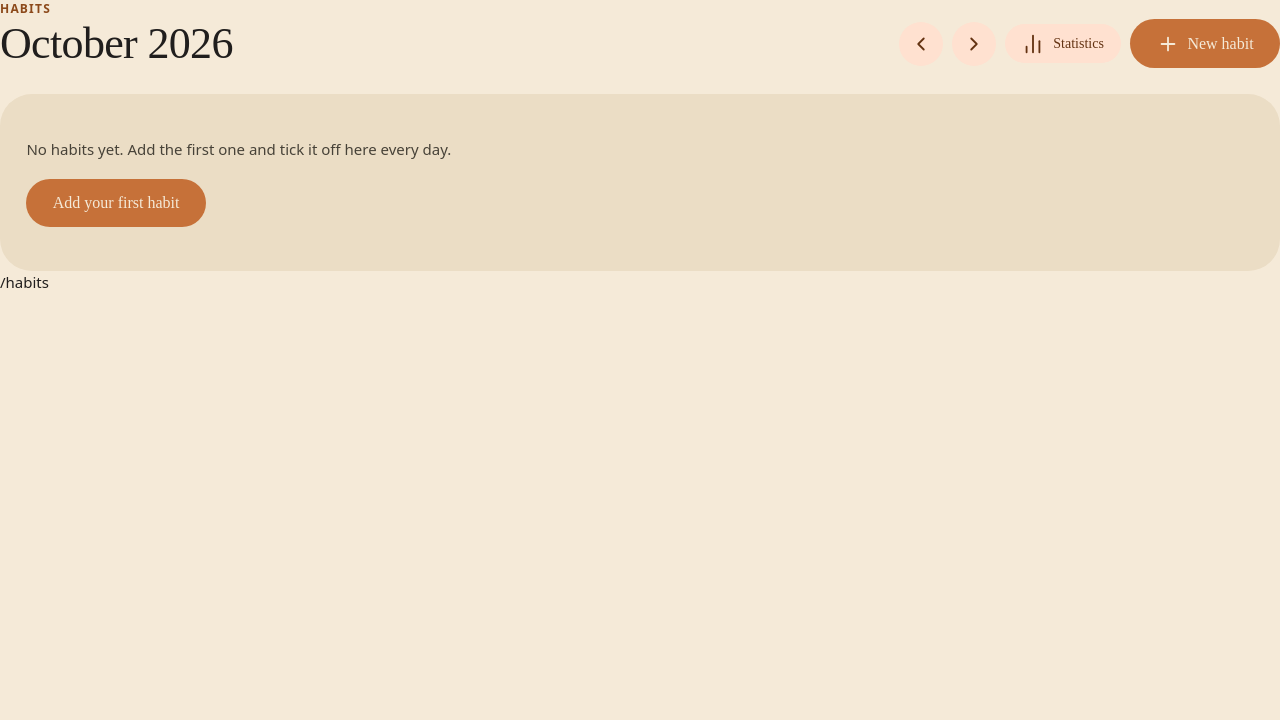
loading, empty and failing › invites the first habit when there is none
This screenshot has width=1280, height=720.
Expected: the text "No habits yet" is shown, x1=26 y1=139 x2=451 y2=159
Click the button "Add your first habit".
click(116, 203)  # box x1=26 y1=179 x2=206 y2=228
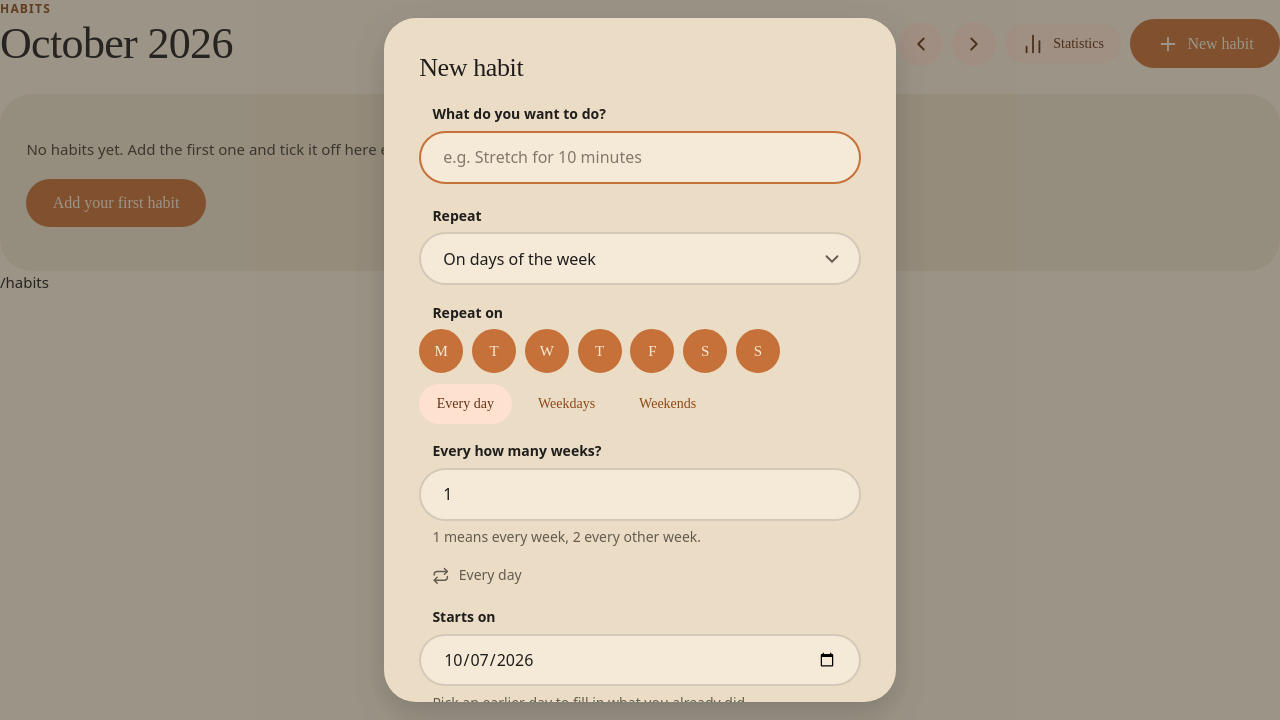
Now the dialog "New habit" is shown, box x1=384 y1=18 x2=896 y2=702
